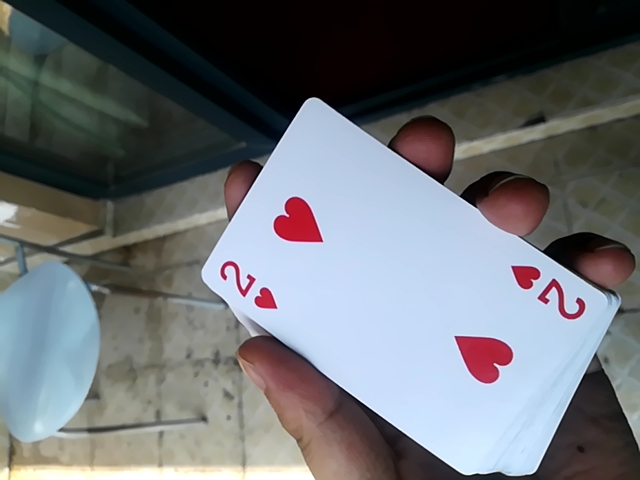hx 2: (184, 101, 624, 473)
